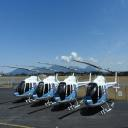helicopter: (45, 56, 93, 119), (80, 53, 123, 121), (27, 66, 67, 120), (9, 65, 46, 107)
